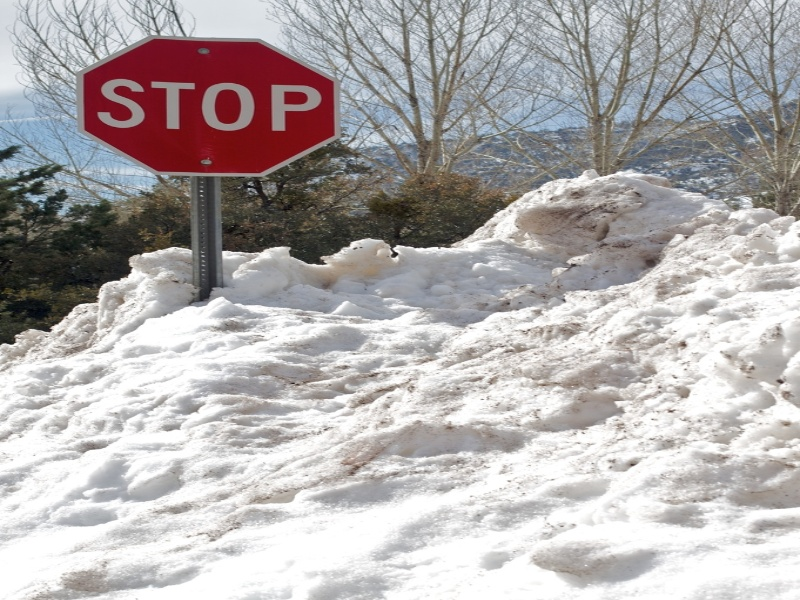stop: (63, 31, 366, 184)
